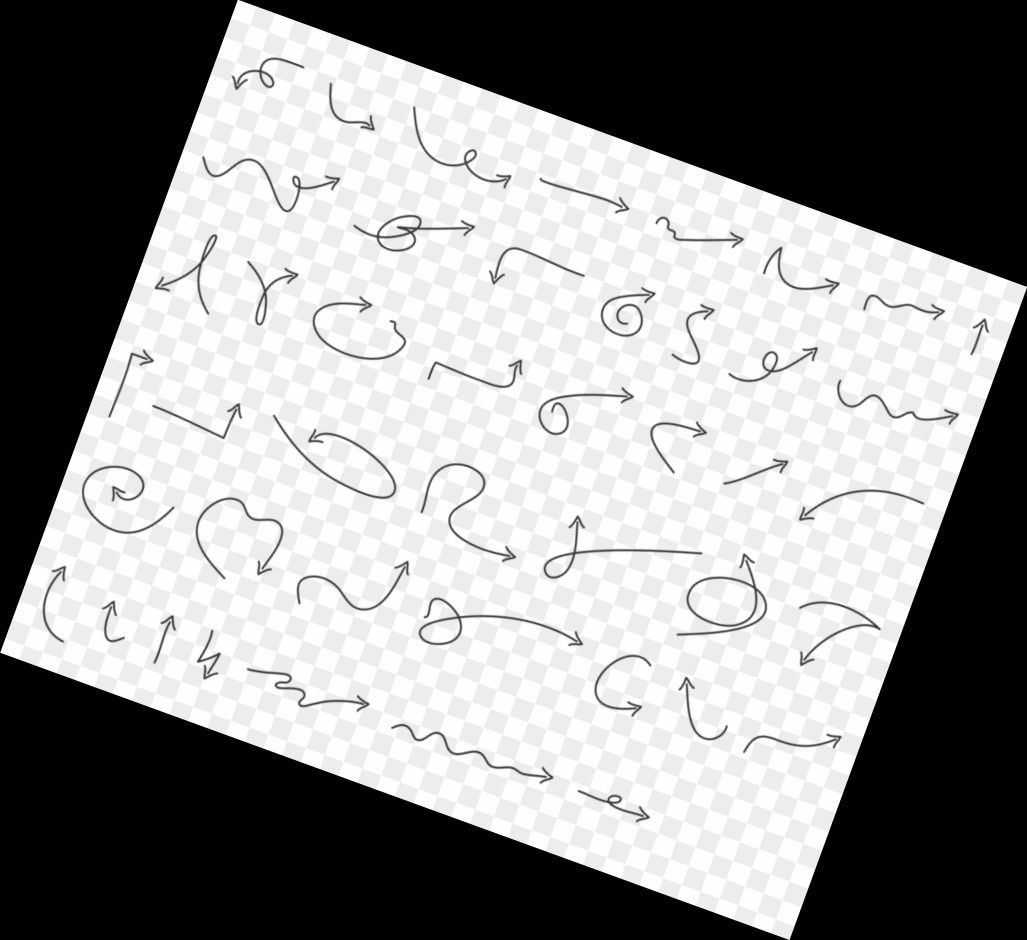arrow: (517, 609, 583, 654), (793, 627, 847, 674), (303, 418, 366, 457), (793, 491, 853, 526), (579, 185, 633, 221), (379, 558, 414, 611), (318, 291, 378, 319), (792, 724, 843, 755), (469, 538, 522, 566), (741, 454, 793, 482), (219, 400, 251, 443), (667, 411, 711, 442), (428, 212, 476, 240), (586, 383, 637, 409), (696, 226, 749, 251), (326, 691, 375, 718), (254, 530, 283, 575), (919, 403, 961, 432), (673, 676, 700, 721), (785, 343, 824, 374), (913, 294, 947, 327), (473, 165, 514, 192), (305, 171, 349, 196), (559, 511, 586, 550), (485, 249, 510, 291), (45, 564, 70, 606), (155, 613, 179, 656), (731, 553, 765, 583), (523, 760, 558, 789), (155, 268, 195, 293), (344, 109, 378, 138), (105, 481, 146, 505), (608, 696, 647, 721), (805, 271, 841, 297), (968, 309, 990, 350), (228, 63, 258, 93), (622, 283, 657, 308), (500, 354, 528, 385), (268, 265, 302, 290), (100, 598, 124, 632), (689, 299, 718, 324), (624, 805, 653, 828), (132, 345, 158, 370), (201, 663, 226, 684)
